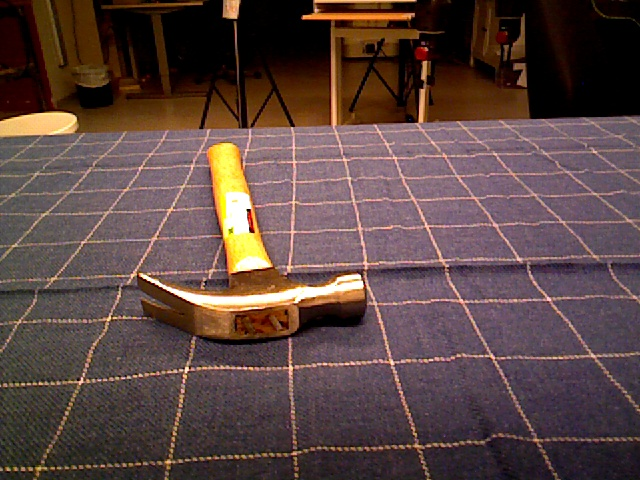hammer1: (138, 140, 367, 343)
